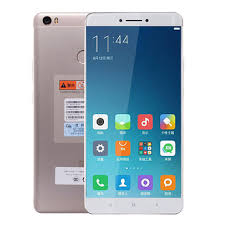mi: (31, 10, 182, 214), (80, 9, 184, 216)
